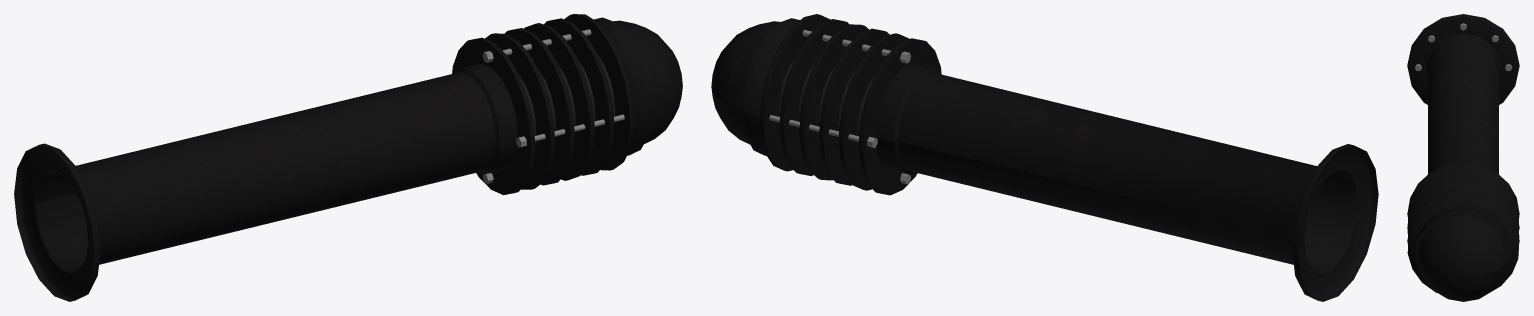
Rendered from cP_StreetLight_Medium.dae.
3 renders of one model, left to right at view 1: azimuth 30°, elevation 25°; view 2: azimuth 150°, elevation 25°; view 3: azimuth 270°, elevation 25°, orthographic. The views are drawn at different scales.
Parts seen in each view (by area): view 1: cP_StreetLight_Medium.001; view 2: cP_StreetLight_Medium.001; view 3: cP_StreetLight_Medium.001.
Boxes of the visible parts, left/top/right/bottom form: cP_StreetLight_Medium.001: left=14, top=14, right=682, bottom=301; cP_StreetLight_Medium.001: left=711, top=14, right=1378, bottom=301; cP_StreetLight_Medium.001: left=1407, top=14, right=1519, bottom=301.
Size of the model in its own units: 1.34 by 0.3008 by 0.3008.
